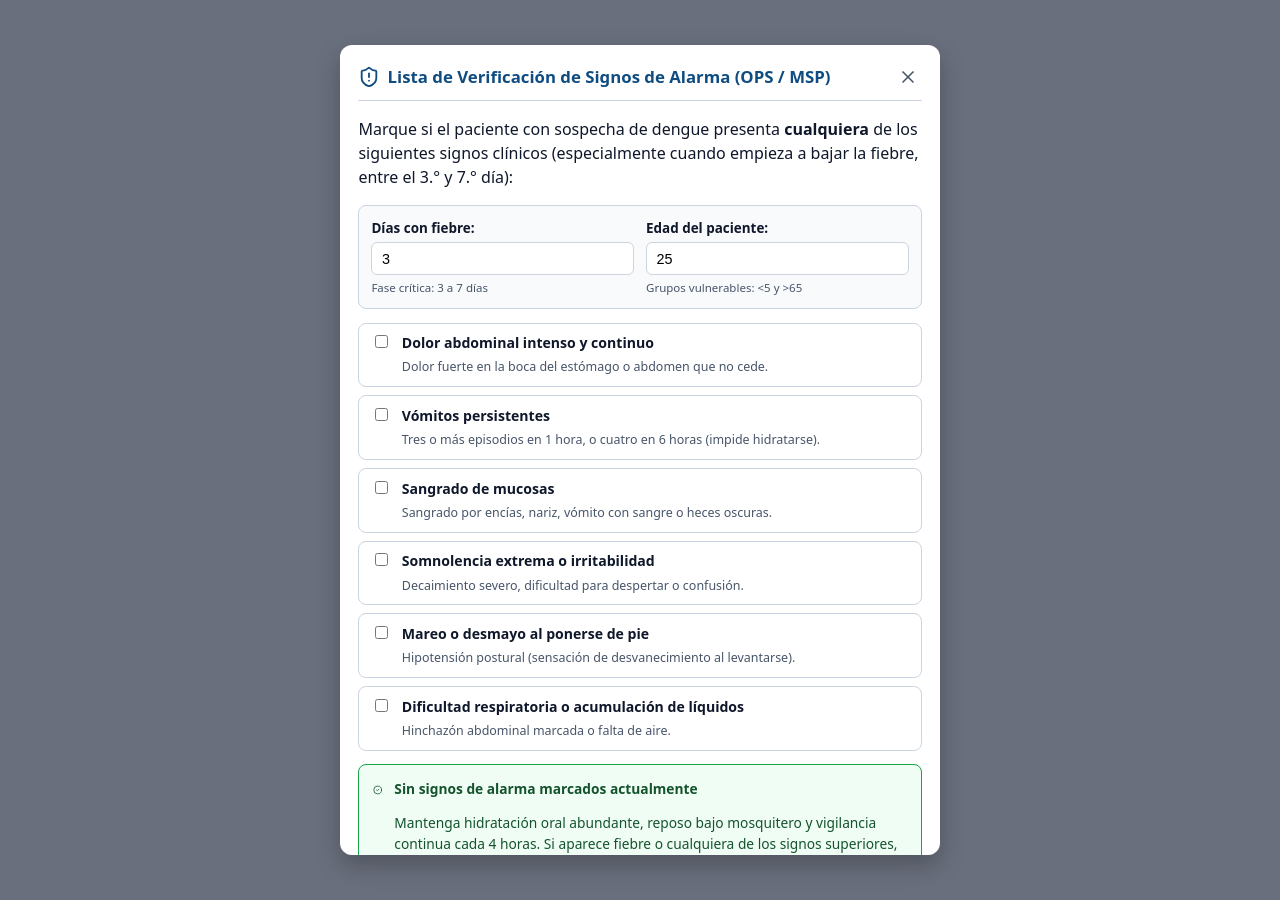
Test: Reto 6, 7 y 8 · Seguridad OWASP LLM05, Sesión Anónima y Accesibilidad WCAG 2.2 › Checklist determinista de signos de alarma (ADR-004): activa alerta urgente al marcar un signo
The image size is (1280, 900).
Check: the text "Sin signos de alarma marcados actualmente" is shown, box [394, 779, 698, 798]
Click the checkbox labelled "Dolor abdominal intenso y continuo" at (382, 342), box [375, 335, 388, 348]
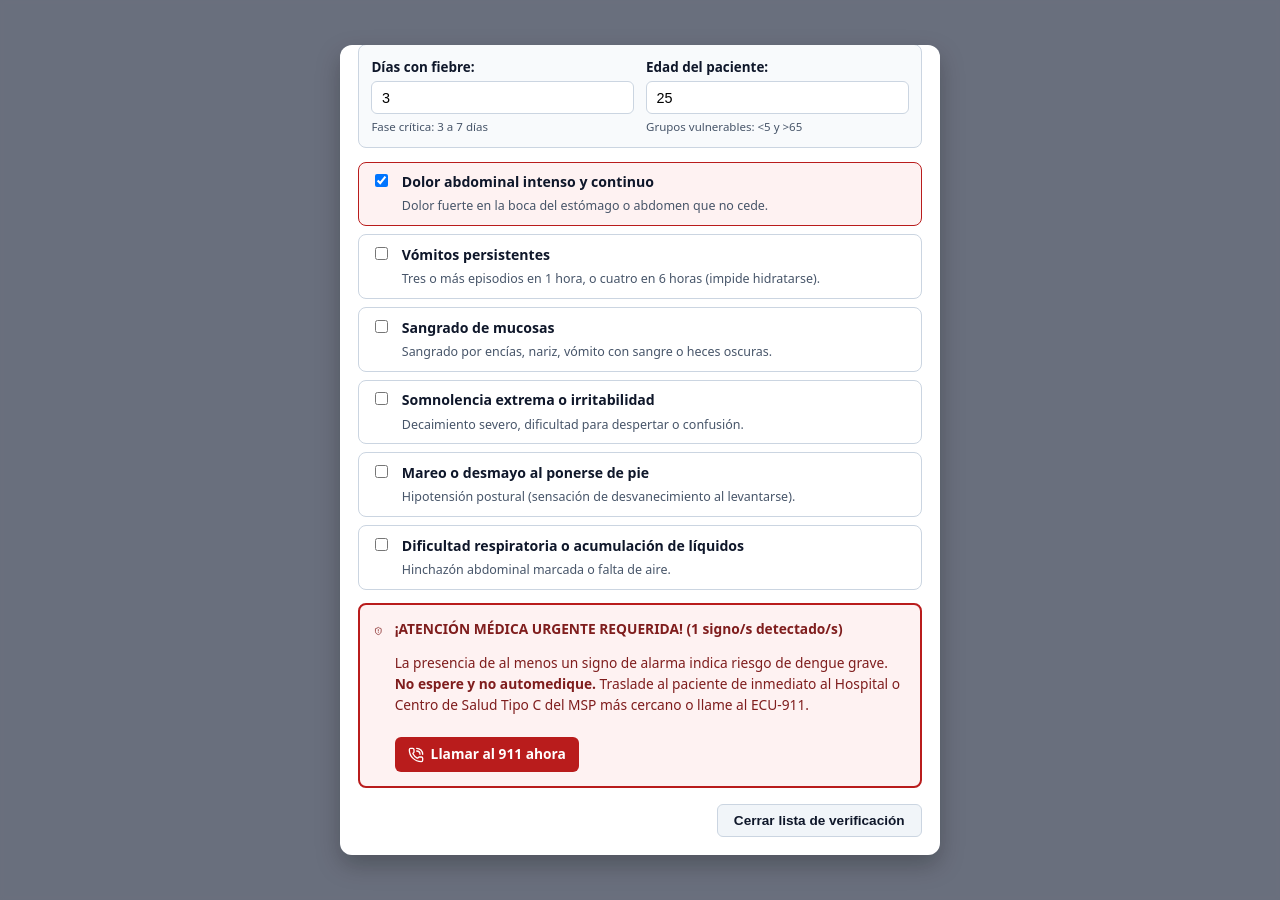
Check: the message shows "ATENCIÓN MÉDICA URGENTE REQUERIDA", box [395, 619, 691, 638]
